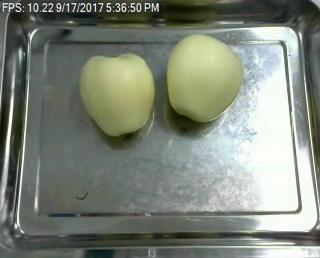Apple: (165, 34, 242, 125), (79, 53, 156, 138)
